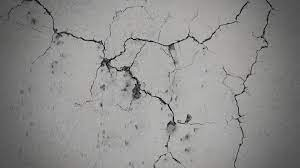crack: (6, 0, 275, 167)
